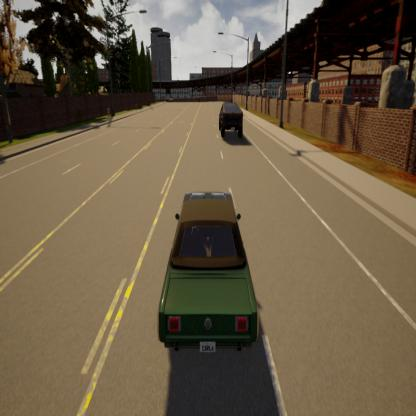Cars: (152, 183, 268, 366), (216, 98, 244, 140)
